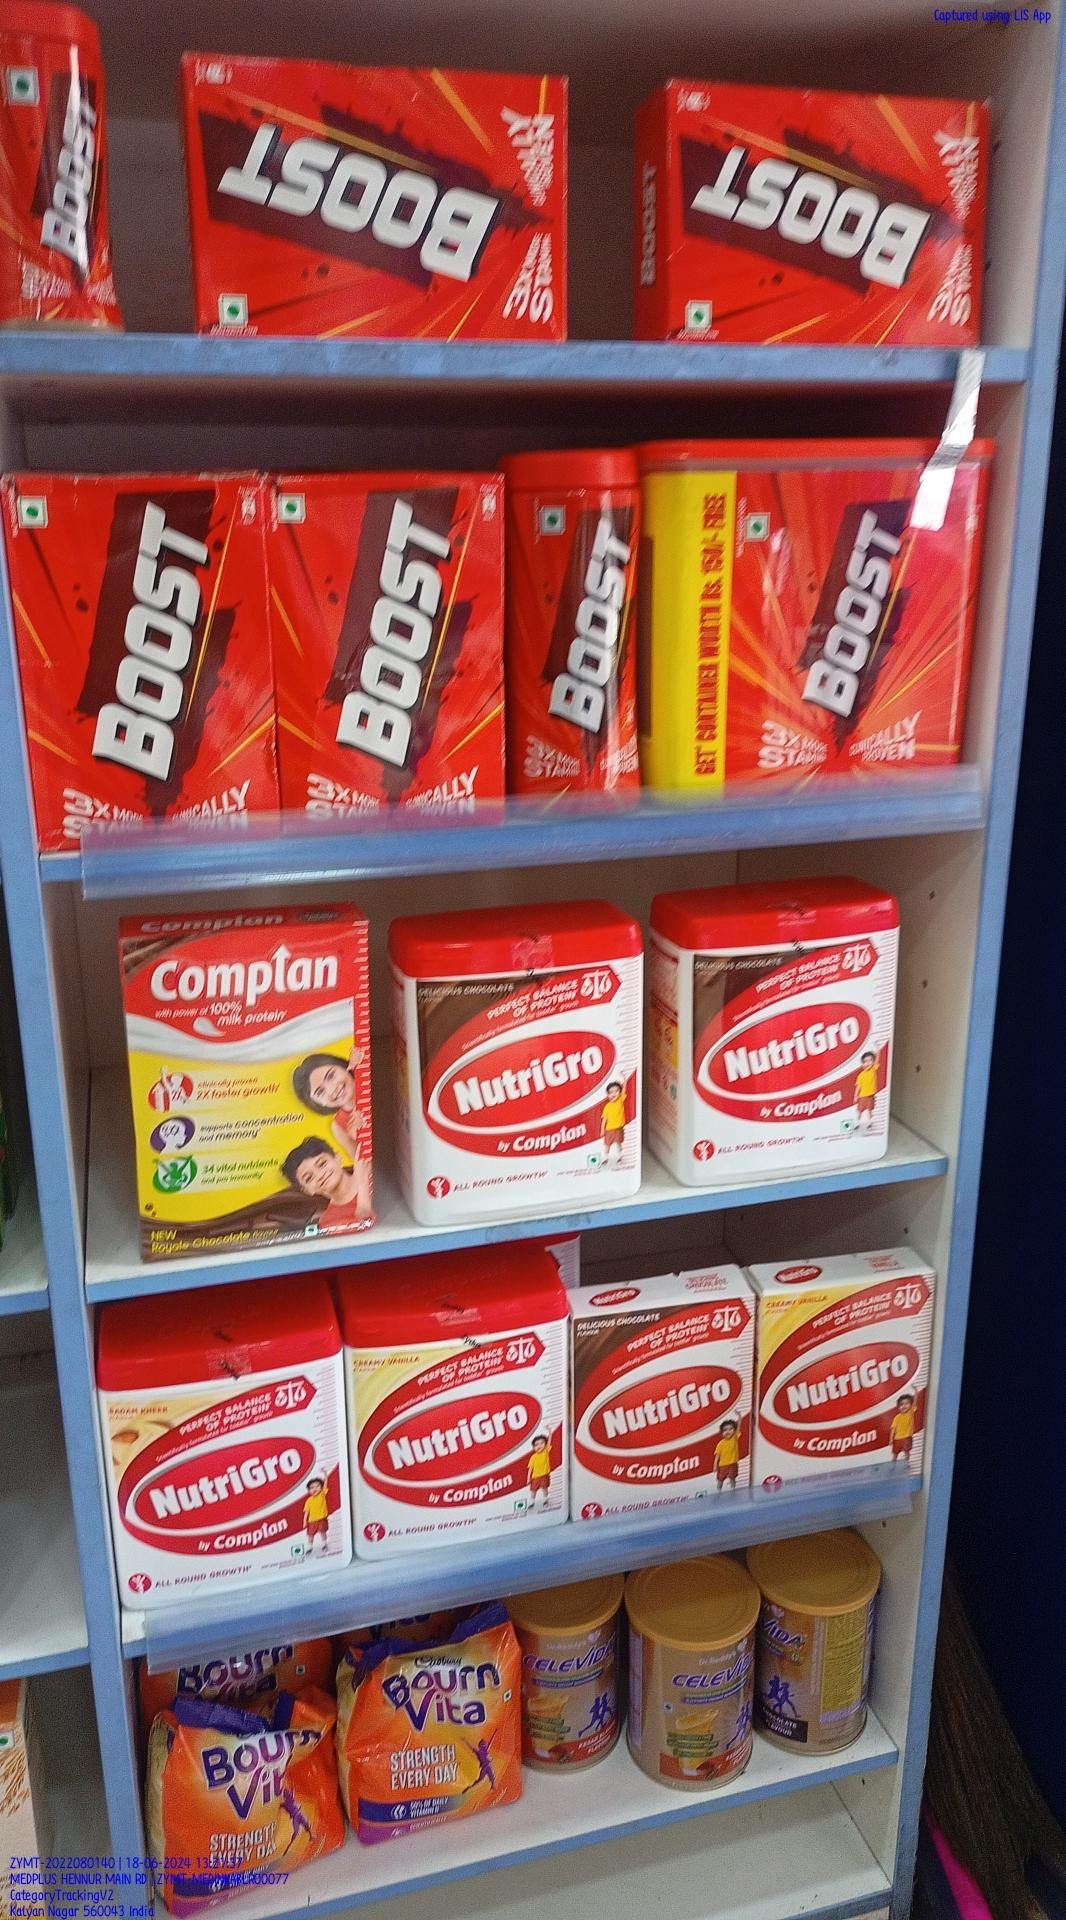BOURN_VITA_500_G_POUCH: (155, 1701, 337, 1886), (351, 1652, 519, 1822)
COMPLAN_CHOCOLATE_500_GMS_PACK: (126, 928, 372, 1244)
